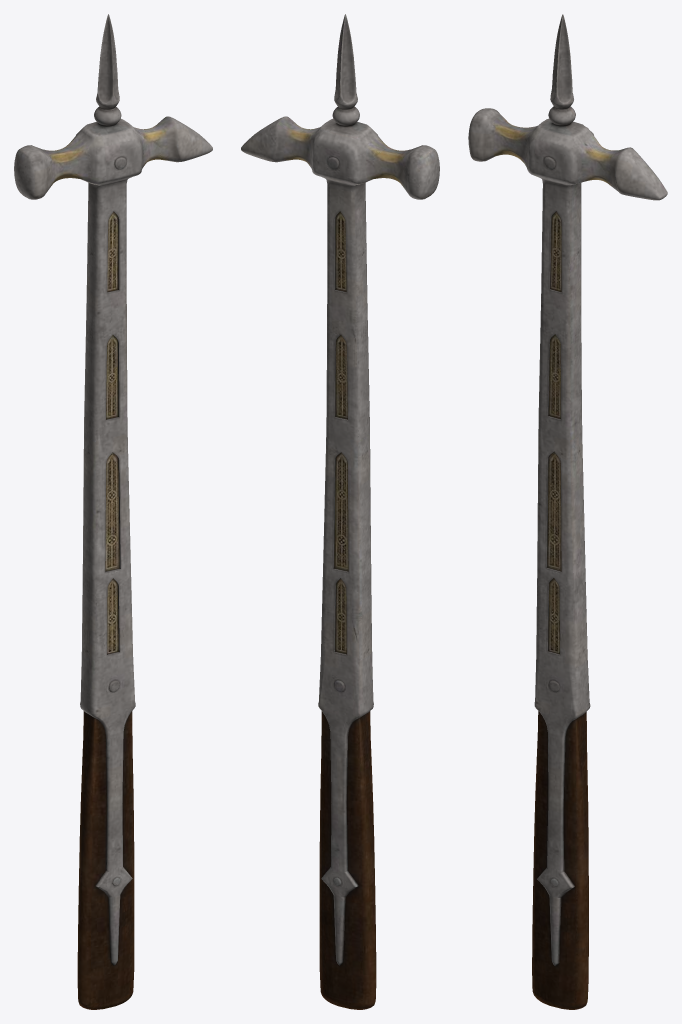
3 views of the same model, side by side, from view 1: azimuth 30°, elevation 25°; view 2: azimuth 150°, elevation 25°; view 3: azimuth 330°, elevation 25° (orthographic).
Visible parts, largest first — view 1: ornate_war_hammer; view 2: ornate_war_hammer; view 3: ornate_war_hammer.
Boxes of the visible parts, x1=… form: ornate_war_hammer: x1=14, y1=14, x2=212, y2=1009; ornate_war_hammer: x1=241, y1=14, x2=439, y2=1009; ornate_war_hammer: x1=468, y1=14, x2=667, y2=1009.
Bounding box in the file's own units: 0.1441 × 0.7112 × 0.0348.
Materials: 1 (1 with a texture image).
